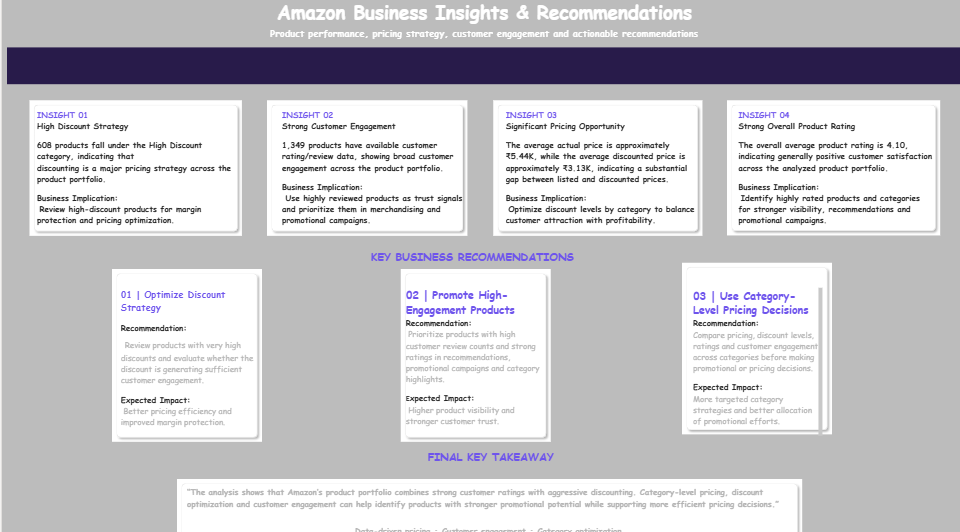

What the dashboard file says about the page in this screenshot:
{"tool":"powerbi","page":{"name":"05_Business Insights & Recommendations","canvas":[1920,1080],"ordinal":4},"visuals":[{"type":"shape","box":[220,540,299.7,345.8],"z":0},{"type":"shape","box":[981.7,202,418,271],"z":1000},{"type":"shape","box":[55,202,425,271],"z":2000},{"type":"shape","title":"Amazon Business Insights & Recommendations","box":[10.4,0,1909.6,170],"z":3000},{"type":"textbox","box":[1008.7,219,384,321],"z":4000},{"type":"textbox","box":[10,835,150,245],"z":5000},{"type":"shape","box":[530.3,202,401,271],"z":6000},{"type":"shape","box":[1450,202,426,270],"z":7000},{"type":"shape","box":[1360,526.7,299.7,343.5],"z":8000},{"type":"textbox","box":[559.3,219,370,321],"z":9000},{"type":"textbox","box":[69,219,411,242],"z":10000},{"type":"textbox","box":[768.3,900,419.6,57.6],"z":11000},{"type":"textbox","box":[1472,219,390,320],"z":12000},{"type":"textbox","box":[236.7,576.7,266.7,293.3],"z":13000},{"type":"shape","box":[796.7,540,299.7,345.8],"z":14000},{"type":"textbox","box":[738,499,419.6,57.6],"z":15000},{"type":"textbox","box":[1383.3,576.7,258.2,302],"z":16000},{"type":"textbox","box":[806.7,576.7,269.7,306.6],"z":17000},{"type":"shape","box":[349.1,960,1250,125.5],"z":18000},{"type":"textbox","box":[370,975,1205,105],"z":19000}]}

Visuals, with their boxes in screenshot pixels (x1, y1, x2, y2), scaled from the page's 1920x1080 canvas onto the 960x532 screenshot:
shape: (left=110, top=266, right=260, bottom=436)
shape: (left=491, top=100, right=700, bottom=233)
shape: (left=28, top=100, right=240, bottom=233)
"Amazon Business Insights & Recommendations" shape: (left=5, top=0, right=959, bottom=84)
textbox: (left=504, top=108, right=696, bottom=266)
textbox: (left=5, top=411, right=80, bottom=531)
shape: (left=265, top=100, right=466, bottom=233)
shape: (left=725, top=100, right=938, bottom=233)
shape: (left=680, top=259, right=830, bottom=429)
textbox: (left=280, top=108, right=465, bottom=266)
textbox: (left=34, top=108, right=240, bottom=227)
textbox: (left=384, top=443, right=594, bottom=472)
textbox: (left=736, top=108, right=931, bottom=266)
textbox: (left=118, top=284, right=252, bottom=429)
shape: (left=398, top=266, right=548, bottom=436)
textbox: (left=369, top=246, right=579, bottom=274)
textbox: (left=692, top=284, right=821, bottom=433)
textbox: (left=403, top=284, right=538, bottom=435)
shape: (left=175, top=473, right=800, bottom=531)
textbox: (left=185, top=480, right=788, bottom=531)
